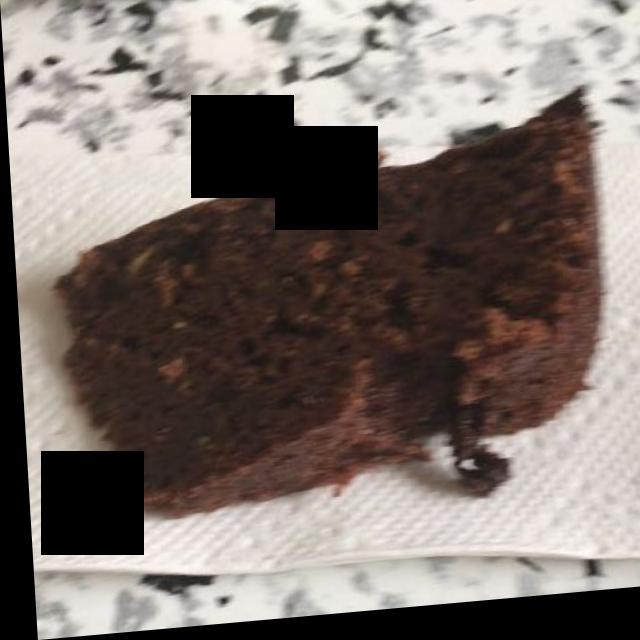cake-chocolate: (59, 131, 587, 517)
